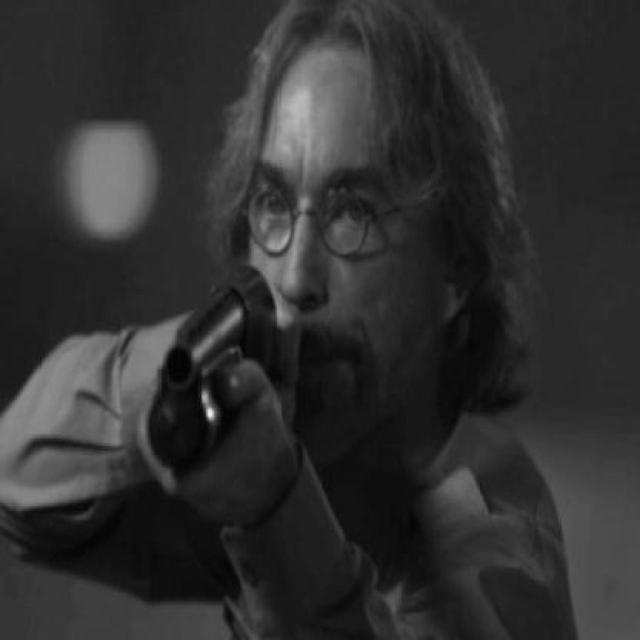weapon: (156, 274, 276, 457)
